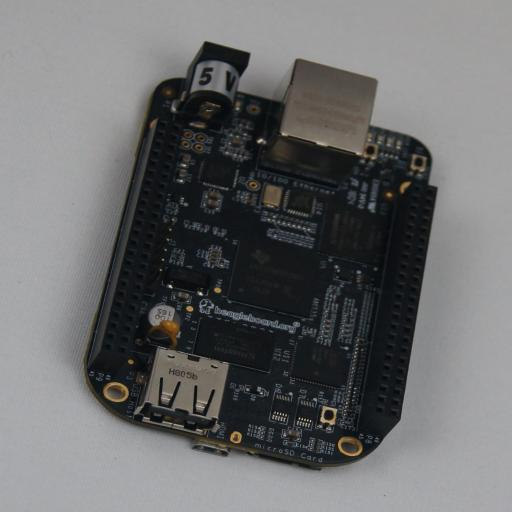Beaglebone Black: (83, 41, 437, 471)
